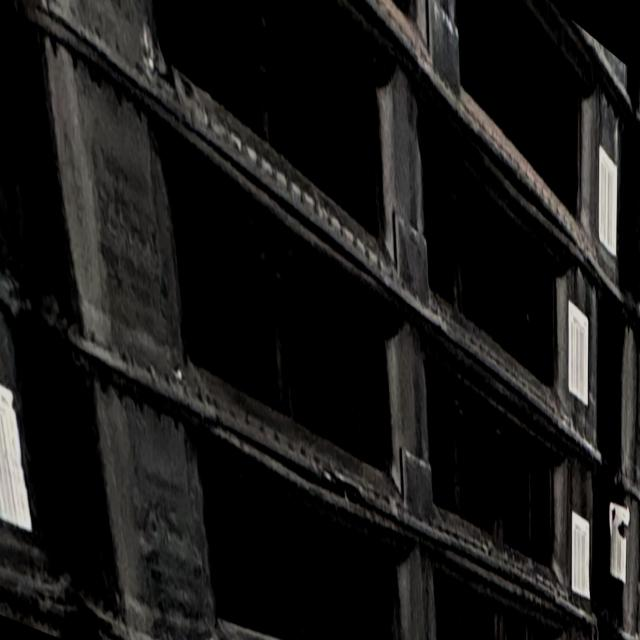igps: (42, 14, 608, 639), (25, 0, 604, 485), (3, 2, 640, 324), (61, 306, 601, 640)
